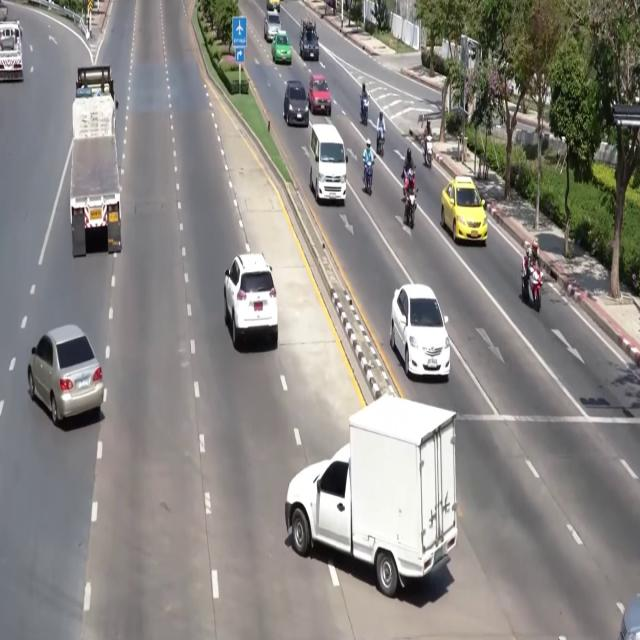car: (28, 325, 103, 424), (390, 284, 450, 379), (224, 254, 278, 348), (441, 176, 487, 245), (284, 80, 309, 127), (308, 74, 331, 116), (271, 30, 292, 65), (264, 11, 281, 42), (267, 0, 280, 12)
scooty: (521, 257, 542, 311), (405, 188, 418, 229), (423, 136, 432, 168), (364, 161, 372, 195), (376, 129, 384, 156), (361, 98, 368, 125)
truck: (285, 395, 457, 597), (70, 66, 121, 257), (0, 6, 23, 81), (299, 17, 319, 60), (0, 0, 7, 22)
